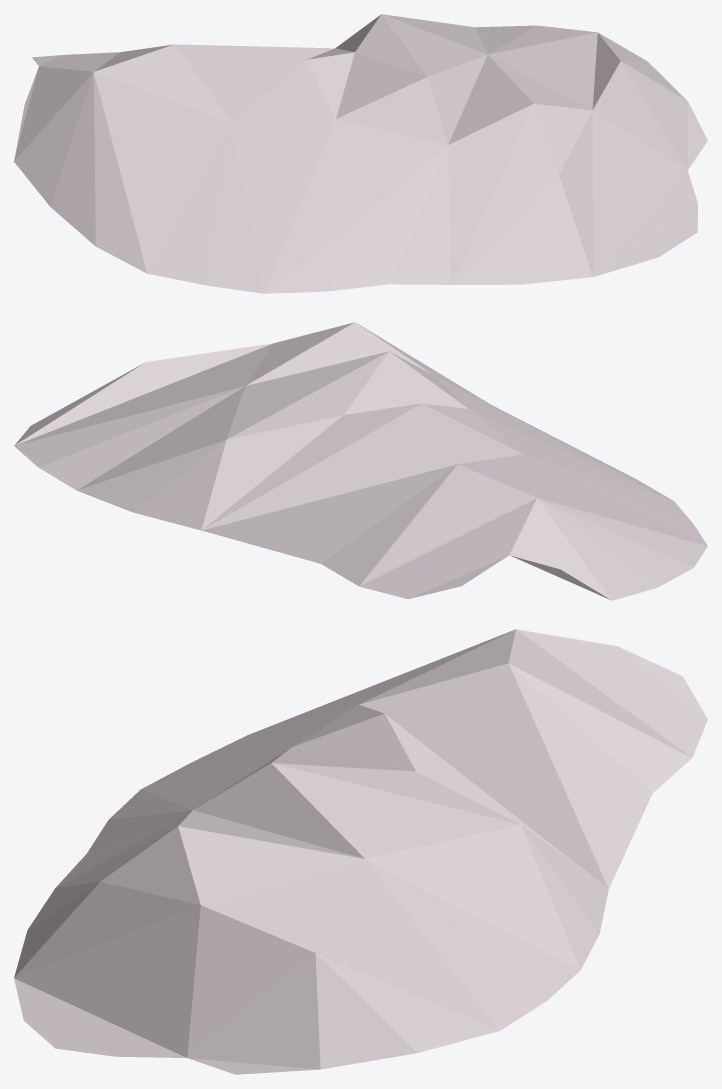
The model's file is Terrain_Craze_2.fbx.
The picture shows the model from 3 angles, top to bottom: view 1: azimuth 30°, elevation 25°; view 2: azimuth 150°, elevation 25°; view 3: azimuth 270°, elevation 25°; orthographic projection. The views are drawn at different scales.
Parts seen in each view (by area): view 1: Terrain_Craze_2; view 2: Terrain_Craze_2; view 3: Terrain_Craze_2.
Part boxes in pixels (x1,y1,x2,y2): Terrain_Craze_2: (14,14,707,293); Terrain_Craze_2: (14,322,707,600); Terrain_Craze_2: (14,629,707,1074).
Bounding box in the file's own units: 790 × 182 × 636.
Materials: 1 (1 with a texture image).
